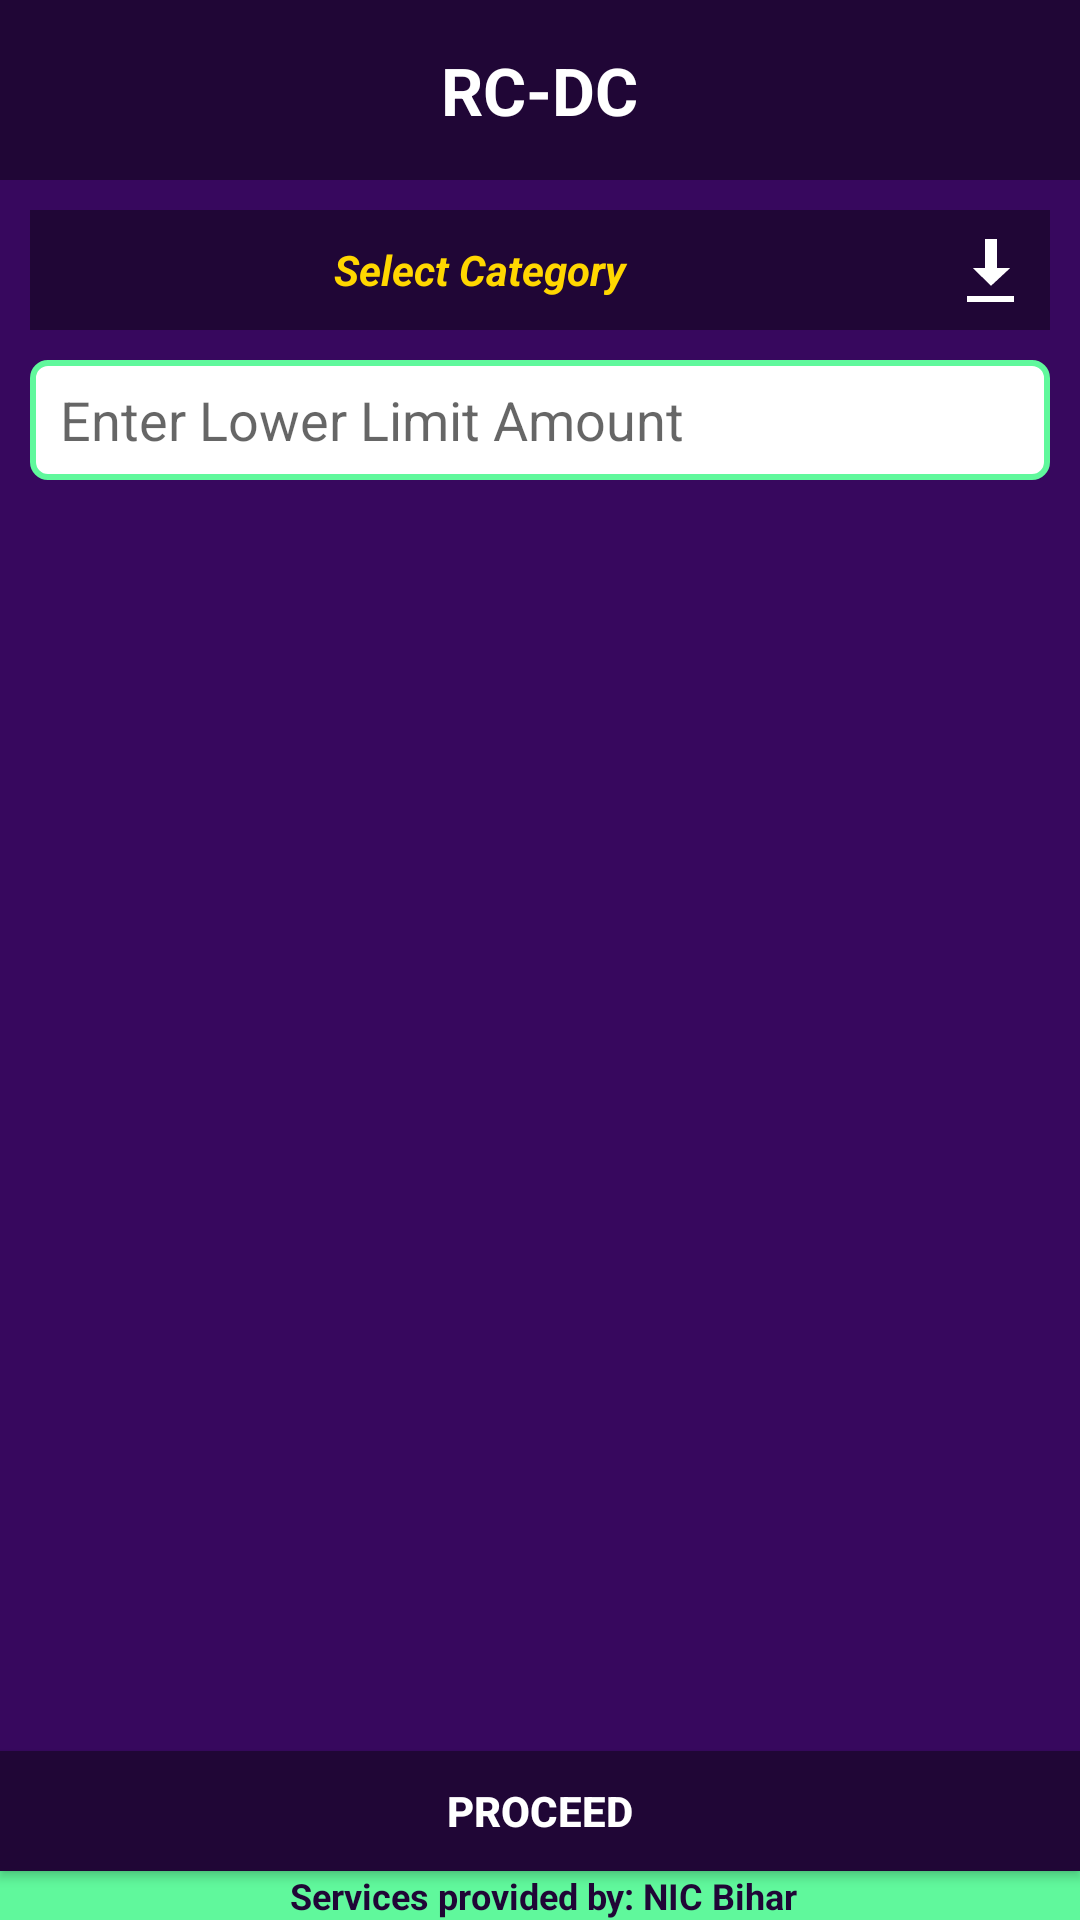

Icon bounding boxes for this 1080px x 1920px phone screenshot, format (x1,y1,x2,y2):
download: (930,210,1050,330)
